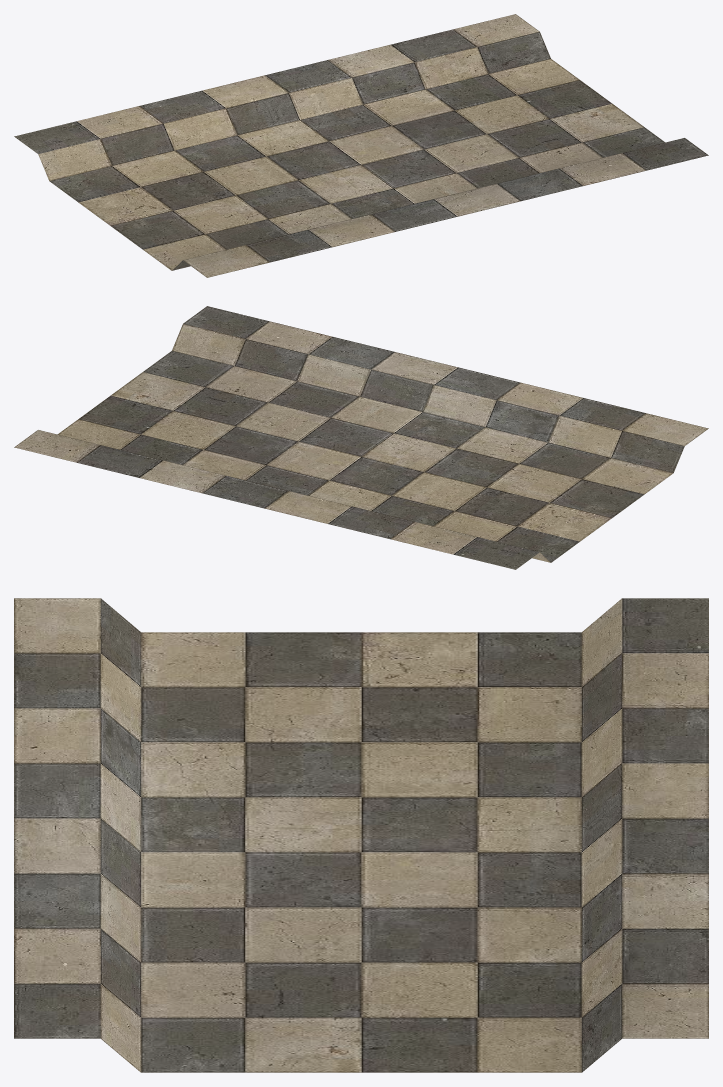
File: straight-floor.fbx
3 views of the same model, one above another, from view 1: azimuth 30°, elevation 25°; view 2: azimuth 150°, elevation 25°; view 3: azimuth 270°, elevation 25° (orthographic). The views are drawn at different scales.
Parts seen in each view (by area): view 1: pPlane1; view 2: pPlane1; view 3: pPlane1.
Part boxes in pixels (box(x1,y1,x2,y2)): pPlane1: box(14, 14, 708, 277); pPlane1: box(14, 306, 708, 569); pPlane1: box(14, 598, 708, 1072).
Bounding box in the file's own units: 60 × 2.15 × 40.
